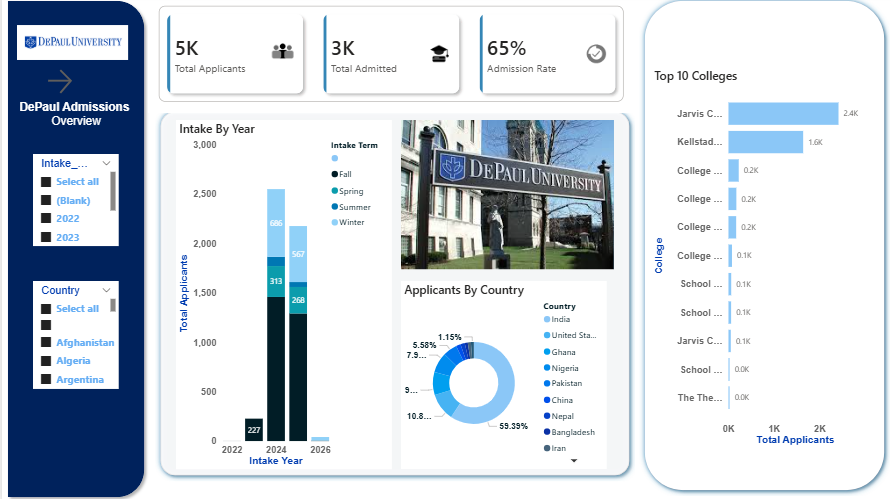

Layout of this report page (visuals, bound fields, positions):
{"tool":"powerbi","page":{"name":"Overview ","canvas":[1400,800],"ordinal":0},"visuals":[{"type":"shape","box":[0,0,233.1,800],"z":0},{"type":"image","box":[23.6,17.3,174.8,115],"z":1000},{"type":"textbox","box":[0,160.6,233.1,70.9],"z":2000},{"type":"shape","box":[240.9,174.8,755.9,590.6],"z":3000},{"type":"donutChart","title":"Applicants By Country","fields":{"Y":["Count(DePaul_Data_With_Split_Dates.Reference_ID)"],"Category":["DePaul_Data_With_Split_Dates.Country"]},"box":[628.3,450.4,324.4,296.1],"z":4000},{"type":"columnChart","title":"Intake By Year","fields":{"Category":["DePaul_Data_With_Split_Dates.Intake_Year"],"Y":["Count(DePaul_Data_With_Split_Dates.Reference_ID)"],"Series":["DePaul_Data_With_Split_Dates.Intake_Term"]},"box":[274,196.9,340.2,549.6],"z":5000},{"type":"textbox","box":[1051,267,319,533],"z":6000},{"type":"shape","box":[1003.1,0,395.3,789],"z":7000},{"type":"clusteredBarChart","title":"Top 10 Colleges","fields":{"Category":["DePaul_Data_With_Split_Dates.College_1st_Choice"],"Y":["Count(DePaul_Data_With_Split_Dates.Reference_ID)"]},"box":[1022,113.4,348,600],"z":8000},{"type":"cardVisual","fields":{"Data":["DePaul_Data_With_Split_Dates.Total Applicants","DePaul_Data_With_Split_Dates.Total Admitted","DePaul_Data_With_Split_Dates.Admission Rate"]},"box":[229.9,0,766.9,185.8],"z":9000},{"type":"slicer","fields":{"Values":["DePaul_Data_With_Split_Dates.Country"]},"box":[48.8,450.4,135.4,170.1],"z":10000},{"type":"slicer","fields":{"Values":["DePaul_Data_With_Split_Dates.Intake_Year"]},"box":[48.8,250.4,135.4,144.9],"z":11000},{"type":"shape","box":[628.3,196.9,335.4,234.6],"z":12000},{"type":"image","box":[628.3,196.9,335.4,234.6],"z":13000},{"type":"actionButton","box":[66.1,111.8,69.3,48.8],"z":13001}]}

Visuals, with their boxes in screenshot pixels (x1, y1, x2, y2), scaled from the page's 1400x800 canvas onto the 891x499 screenshot:
shape: <region>0, 0, 148, 498</region>
image: <region>15, 11, 126, 83</region>
textbox: <region>0, 100, 148, 144</region>
shape: <region>153, 109, 634, 477</region>
"Applicants By Country" donutChart: <region>400, 281, 606, 466</region>
"Intake By Year" columnChart: <region>174, 123, 391, 466</region>
textbox: <region>669, 167, 872, 498</region>
shape: <region>638, 0, 890, 492</region>
"Top 10 Colleges" clusteredBarChart: <region>650, 71, 872, 445</region>
cardVisual - DePaul_Data_With_Split_Dates.Total Applicants x DePaul_Data_With_Split_Dates.Total Admitted: <region>146, 0, 634, 116</region>
slicer - DePaul_Data_With_Split_Dates.Country: <region>31, 281, 117, 387</region>
slicer - DePaul_Data_With_Split_Dates.Intake_Year: <region>31, 156, 117, 247</region>
shape: <region>400, 123, 613, 269</region>
image: <region>400, 123, 613, 269</region>
actionButton: <region>42, 70, 86, 100</region>
